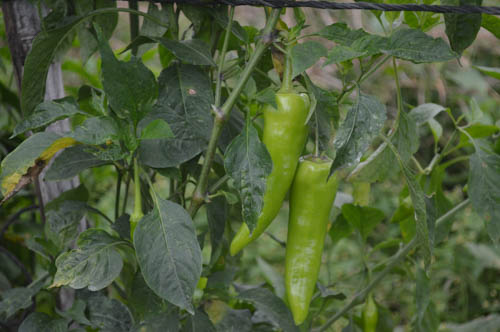ChiliPepper: (227, 96, 309, 260), (288, 158, 332, 324)
